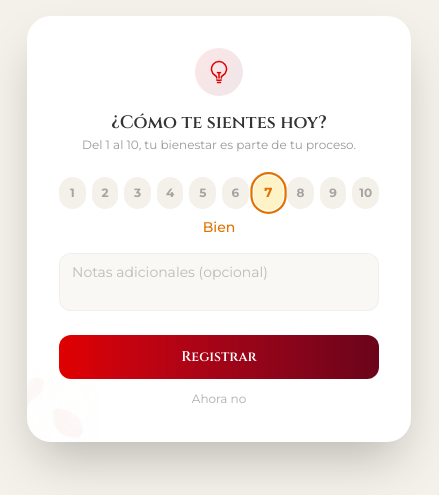
MoodCheckIn › updates score label when a score button is clicked
Expected: the heading "¿Cómo te sientes hoy?" is shown, [111, 110, 327, 135]
Click the button "10": (366, 193) [352, 177, 379, 209]
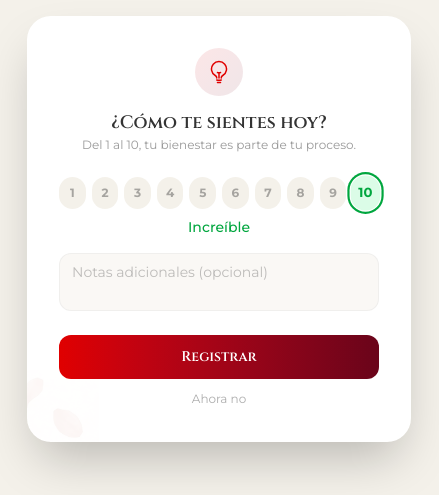
Expected: the text "Increíble" is shown, [188, 218, 250, 236]
